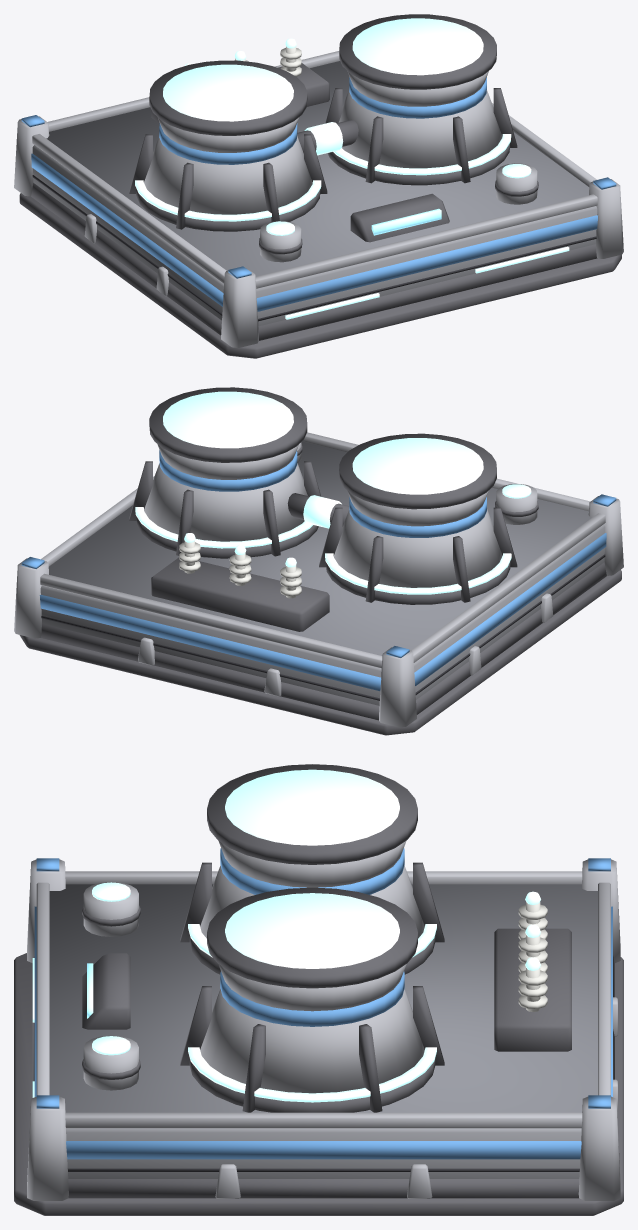
Rendered from power.glb.
The picture shows the model from 3 angles, top to bottom: view 1: azimuth 30°, elevation 25°; view 2: azimuth 150°, elevation 25°; view 3: azimuth 270°, elevation 25°; orthographic projection. The views are drawn at different scales.
Visible parts, largest first — view 1: body; view 2: body; view 3: body.
Boxes of the visible parts, x1,y1,x2,y2 form: body: (14, 14, 623, 358); body: (14, 387, 623, 735); body: (14, 764, 623, 1215).
Bounding box in the file's own units: 1.88 × 0.747 × 1.88.
